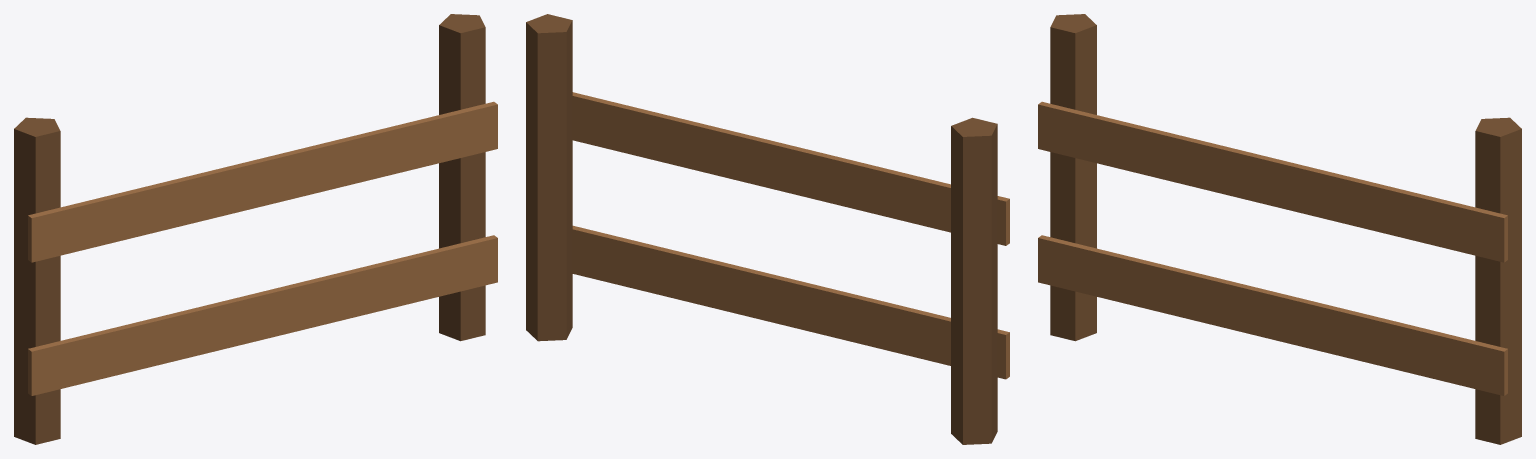
Rendered from NormalFence.fbx.
The picture shows the model from 3 angles, left to right: view 1: azimuth 30°, elevation 25°; view 2: azimuth 150°, elevation 25°; view 3: azimuth 330°, elevation 25°; orthographic projection.
Visible parts, largest first — view 1: Cube.001; view 2: Cube.001; view 3: Cube.001.
Boxes of the visible parts, x1=… form: Cube.001: x1=14, y1=14, x2=497, y2=444; Cube.001: x1=526, y1=14, x2=1009, y2=444; Cube.001: x1=1038, y1=14, x2=1521, y2=444.
Bounding box in the file's own units: 2193 × 1385 × 216.
